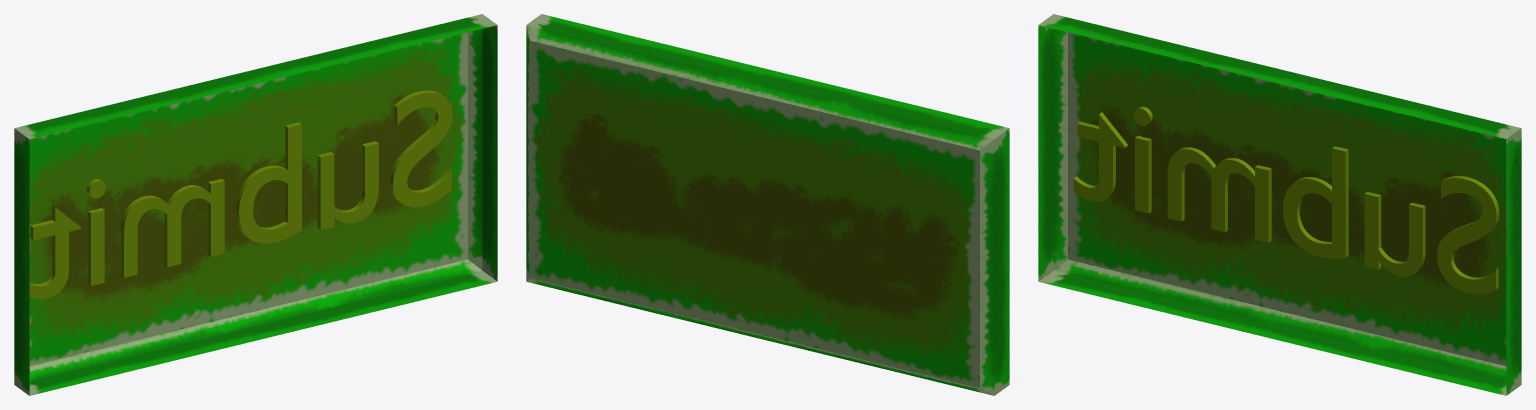
File: submitButton.fbx
3 renders of one model, left to right at view 1: azimuth 30°, elevation 25°; view 2: azimuth 150°, elevation 25°; view 3: azimuth 330°, elevation 25°, orthographic.
Visible parts, largest first — view 1: submitButton; view 2: submitButton; view 3: submitButton.
Boxes of the visible parts, x1,y1,x2,y2 form: submitButton: [14, 14, 497, 395]; submitButton: [526, 14, 1009, 395]; submitButton: [1038, 14, 1521, 395].
Size of the model in its own units: 16.07 by 8.42 by 1.22.
